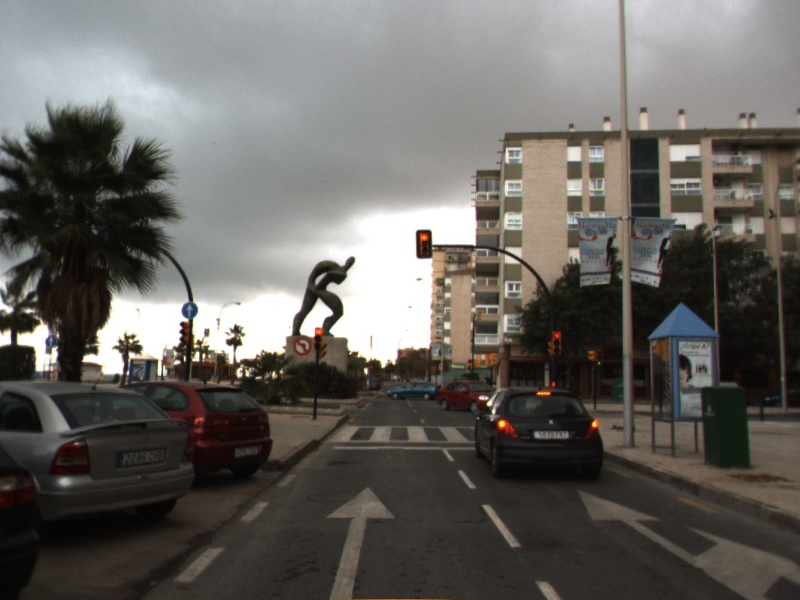STRAIGHT: (323, 485, 398, 600)
STRAIGHT_RIGHT: (575, 486, 800, 600)
